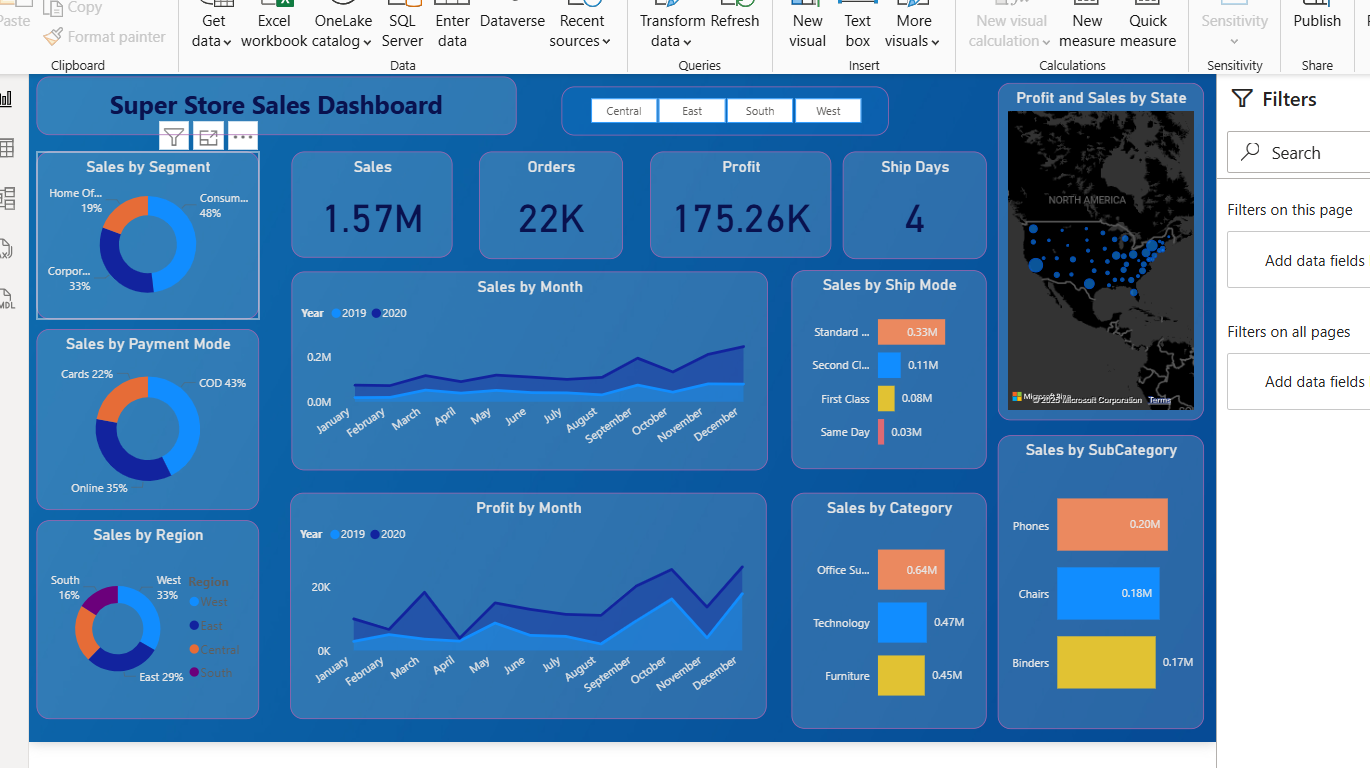

The dashboard page shown, as its layout file describes it:
{"tool":"powerbi","page":{"name":"Page 1","canvas":[1280,720],"ordinal":0},"visuals":[{"type":"clusteredBarChart","title":"Sales by Category","fields":{"Category":["SuperStore_Sales_Dataset.Category"],"Y":["Sum(SuperStore_Sales_Dataset.Sales)"]},"box":[822.1,451.5,210.2,254.7],"z":0},{"type":"clusteredBarChart","title":"Sales by SubCategory","fields":{"Category":["SuperStore_Sales_Dataset.Sub-Category"],"Y":["Sum(SuperStore_Sales_Dataset.Sales)"]},"box":[1044.4,389.5,222.4,316.7],"z":1000},{"type":"clusteredBarChart","title":"Sales by Ship Mode","fields":{"Category":["SuperStore_Sales_Dataset.Ship Mode"],"Y":["Sum(SuperStore_Sales_Dataset.Sales)"]},"box":[822.1,211.6,210.2,214.3],"z":2000},{"type":"stackedAreaChart","title":"Sales by Month ","fields":{"Y":["Sum(SuperStore_Sales_Dataset.Sales)"],"Category":["SuperStore_Sales_Dataset.Order Date.Variation.Date Hierarchy.Month","SuperStore_Sales_Dataset.Order Date.Variation.Date Hierarchy.Day"],"Series":["SuperStore_Sales_Dataset.Order Date.Variation.Date Hierarchy.Year"]},"box":[283,212.9,513.5,214.3],"z":3000},{"type":"stackedAreaChart","title":" Profit by Month ","fields":{"Category":["SuperStore_Sales_Dataset.Order Date.Variation.Date Hierarchy.Month","SuperStore_Sales_Dataset.Order Date.Variation.Date Hierarchy.Day"],"Series":["SuperStore_Sales_Dataset.Order Date.Variation.Date Hierarchy.Year"],"Y":["Sum(SuperStore_Sales_Dataset.Profit)"]},"box":[281.7,451.5,513.5,243.9],"z":4000},{"type":"map","title":"Profit and Sales by State","fields":{"Category":["SuperStore_Sales_Dataset.State"],"Size":["CountNonNull(SuperStore_Sales_Dataset.State)"]},"box":[1044.4,9.4,222.4,363.9],"z":5000},{"type":"donutChart","title":"Sales by Segment","fields":{"Category":["SuperStore_Sales_Dataset.Segment"],"Y":["Sum(SuperStore_Sales_Dataset.Sales)"]},"box":[8.1,83.6,239.9,180.6],"z":6000},{"type":"donutChart","fields":{"Category":["SuperStore_Sales_Dataset.Payment Mode","SuperStore_Sales_Dataset.Segment"],"Y":["Sum(SuperStore_Sales_Dataset.Sales)"]},"box":[8.1,274.9,239.9,195.4],"z":7000},{"type":"slicer","fields":{"Values":["SuperStore_Sales_Dataset.Region"]},"box":[574.1,13.5,353.1,52.6],"z":8000},{"type":"textbox","box":[8.1,2.7,517.5,63.3],"z":9000},{"type":"card","title":"Sales","fields":{"Values":["Sum(SuperStore_Sales_Dataset.Sales)"]},"box":[283,83.6,173.8,114.6],"z":10000},{"type":"card","title":"Orders","fields":{"Values":["Sum(SuperStore_Sales_Dataset.Quantity)"]},"box":[485.2,83.6,155,115.9],"z":11000},{"type":"card","title":"Profit","fields":{"Values":["Sum(SuperStore_Sales_Dataset.Profit)"]},"box":[669.8,83.6,195.4,114.6],"z":12000},{"type":"card","title":"Ship Days","fields":{"Values":["Avg(SuperStore_Sales_Dataset.AvgDelivery)"]},"box":[877.3,83.6,155,115.9],"z":13000},{"type":"donutChart","fields":{"Category":["SuperStore_Sales_Dataset.Region"],"Y":["Sum(SuperStore_Sales_Dataset.Sales)"]},"box":[8.1,481.1,239.9,214.3],"z":14000}]}

Visuals, with their boxes on the page's 1280x720 design canvas (x1, y1, x2, y2). These are canvas units, not pixel positions in the 1370x768 screenshot, which may show the page scaled, cropped or inside an application window:
"Sales by Category" clusteredBarChart: bbox(822, 452, 1032, 706)
"Sales by SubCategory" clusteredBarChart: bbox(1044, 390, 1267, 706)
"Sales by Ship Mode" clusteredBarChart: bbox(822, 212, 1032, 426)
"Sales by Month " stackedAreaChart: bbox(283, 213, 796, 427)
" Profit by Month " stackedAreaChart: bbox(282, 452, 795, 695)
"Profit and Sales by State" map: bbox(1044, 9, 1267, 373)
"Sales by Segment" donutChart: bbox(8, 84, 248, 264)
donutChart - SuperStore_Sales_Dataset.Payment Mode x SuperStore_Sales_Dataset.Segment: bbox(8, 275, 248, 470)
slicer - SuperStore_Sales_Dataset.Region: bbox(574, 14, 927, 66)
textbox: bbox(8, 3, 526, 66)
"Sales" card: bbox(283, 84, 457, 198)
"Orders" card: bbox(485, 84, 640, 200)
"Profit" card: bbox(670, 84, 865, 198)
"Ship Days" card: bbox(877, 84, 1032, 200)
donutChart - SuperStore_Sales_Dataset.Region x Sum(SuperStore_Sales_Dataset.Sales): bbox(8, 481, 248, 695)
